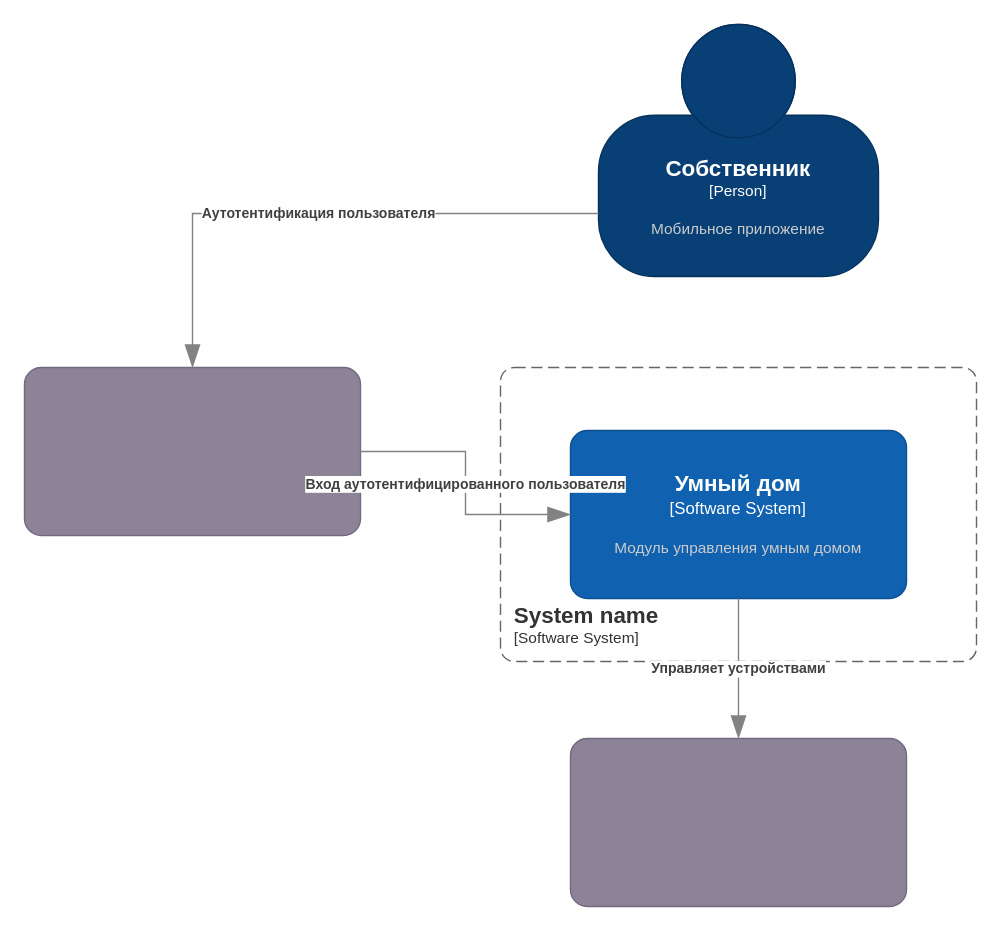
The diagram is 1001 pixels wide and 931 high, and some of its shapes have lost their labels. The shapes that lost their labels are listed below. From the top down, each one's centre as x and y in pixels, then its label:
the point at 191,451: External system name [Software System] Description of external software system.
the point at 737,821: Партнерская система управления [Software System] Управление умными устройствами
